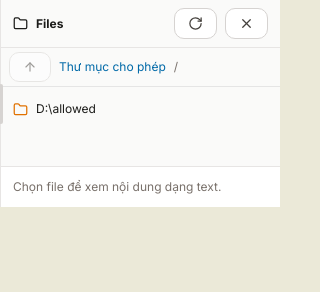
Test: outside a project, opens allowed folders and browses files within the selected root
The image size is (320, 292).
Click the button "D:\\allowed".
click(66, 108)  # box [5,91,276,127]
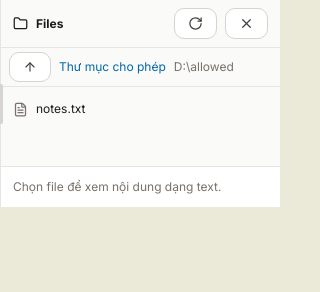
Click the button "notes.txt".
click(61, 108)  # box [5,91,276,127]
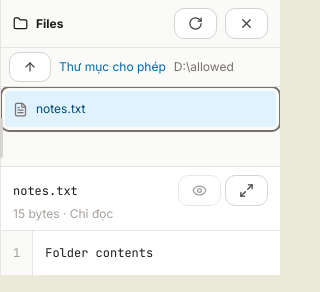
Expected: the text "D:\\allowed" is shown, [174,59,234,75]
Expected: the 1st text "notes.txt" is shown, [36,101,86,117]
Expected: the text "Folder contents" is shown, [45,245,153,261]
Click the button named "Lên thư mục cha".
click(30, 67)  # box [9,52,51,82]
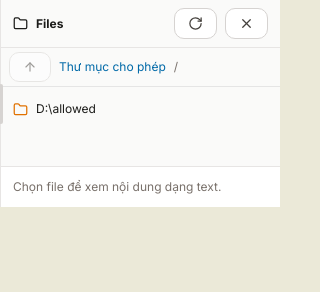
Expected: the button "D:\\allowed" is shown, [5,91,276,127]
Expected: the text "Folder contents" is gone
